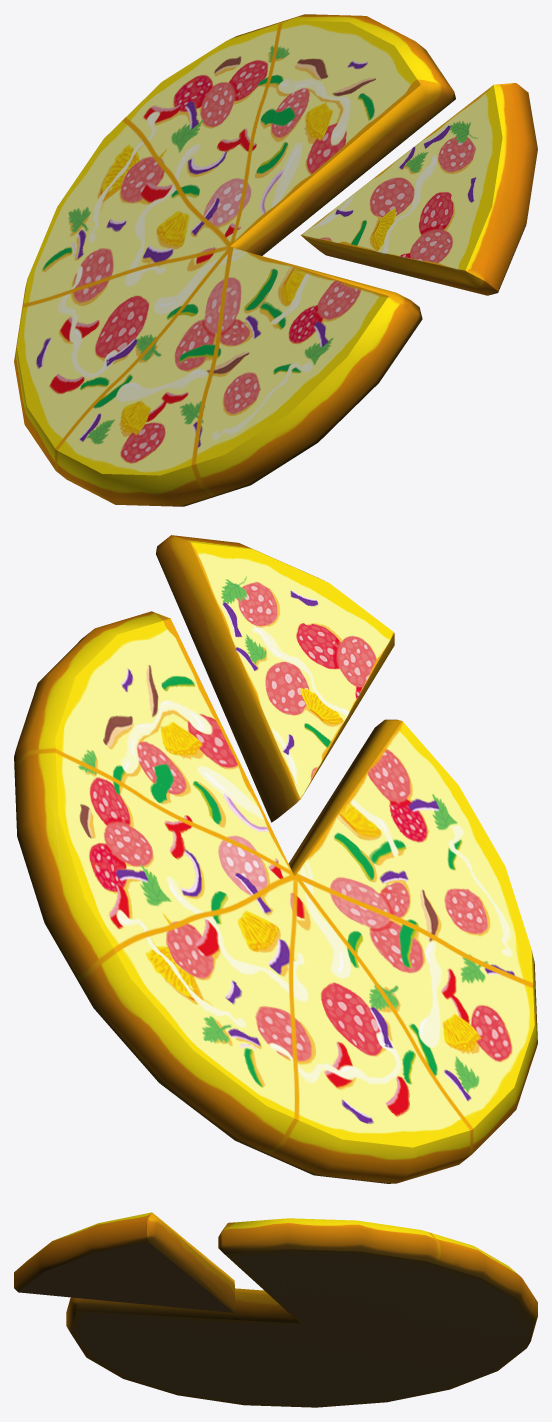
The model's file is pizza.fbx.
The picture shows the model from 3 angles, top to bottom: view 1: azimuth 30°, elevation 25°; view 2: azimuth 150°, elevation 25°; view 3: azimuth 270°, elevation 25°; orthographic projection. The views are drawn at different scales.
Visible parts, largest first — view 1: 046; view 2: 046; view 3: 046.
Part boxes in pixels (x1=…): 046: x1=14, y1=14, x2=537, y2=506; 046: x1=14, y1=535, x2=537, y2=1183; 046: x1=14, y1=1212, x2=537, y2=1407.
Size of the model in its own units: 51.09 by 50.92 by 73.86.
Materials: 1 (1 with a texture image).
